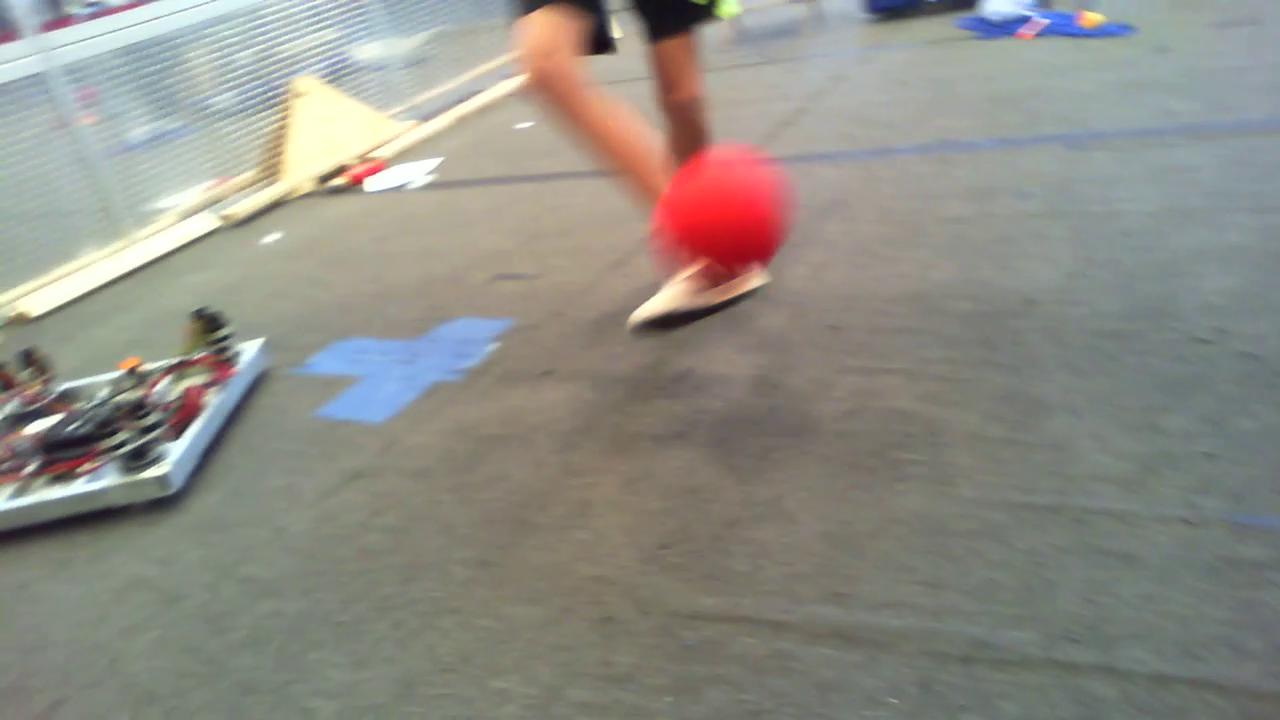Red_Ball: (653, 145, 791, 264)
